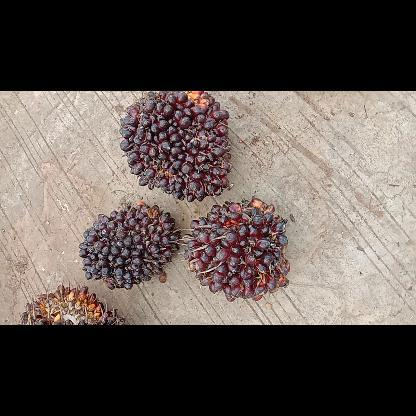TBS mentah: (114, 91, 236, 205), (182, 197, 294, 305), (76, 204, 182, 292)
